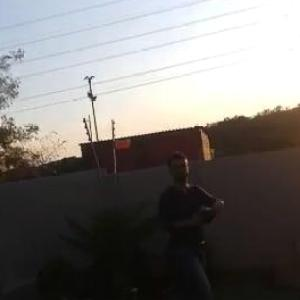follow: (152, 145, 232, 299)
